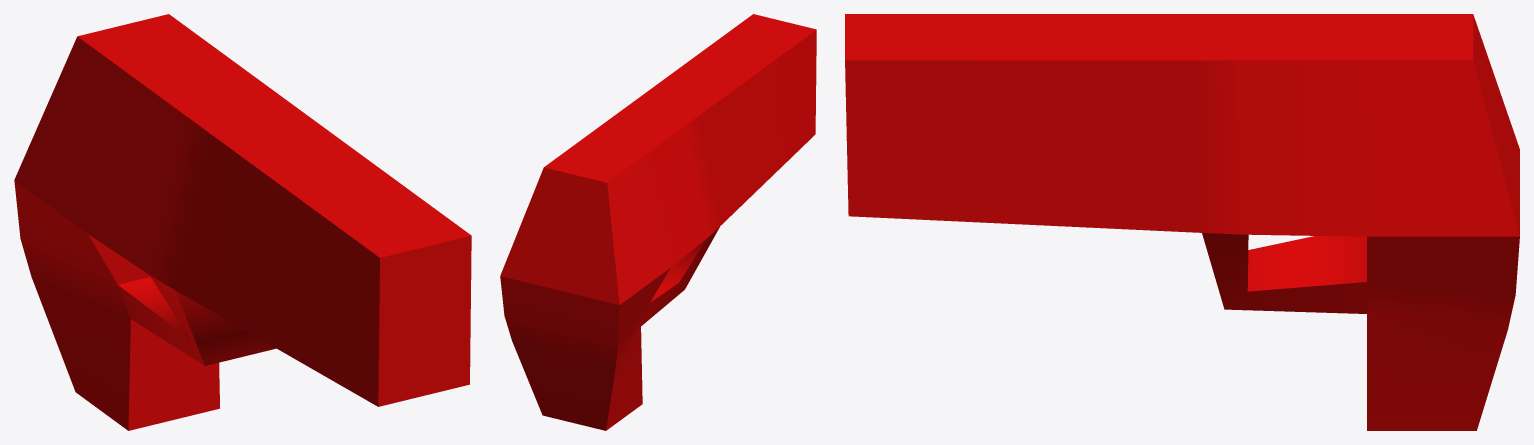
File: Pistola.fbx
3 renders of one model, left to right at view 1: azimuth 30°, elevation 25°; view 2: azimuth 150°, elevation 25°; view 3: azimuth 270°, elevation 25°, orthographic. The views are drawn at different scales.
Parts seen in each view (by area): view 1: pCube1; view 2: pCube1; view 3: pCube1.
Part boxes in pixels (x1,y1,x2,y2): pCube1: (14, 14, 471, 430); pCube1: (500, 14, 816, 430); pCube1: (845, 14, 1519, 430).
Bounding box in the file's own units: 1.88 × 3.72 × 6.15.
